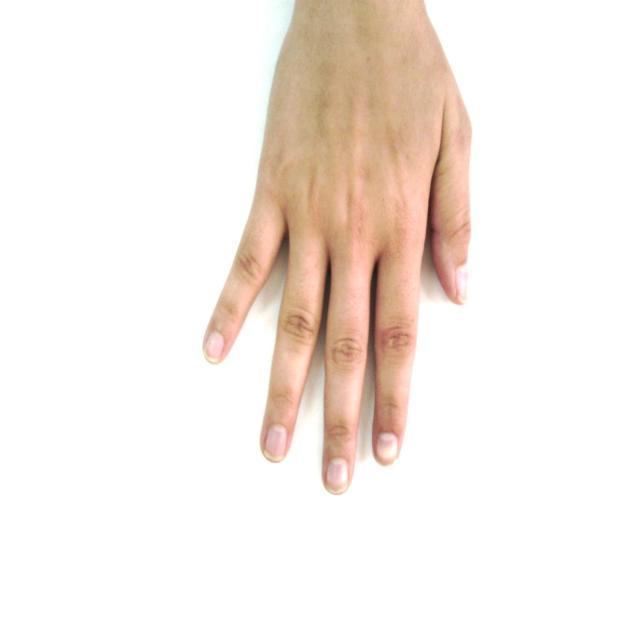Fingernail: (326, 459, 347, 493), (266, 426, 287, 459), (377, 433, 398, 463), (206, 331, 223, 361), (457, 267, 467, 301)
